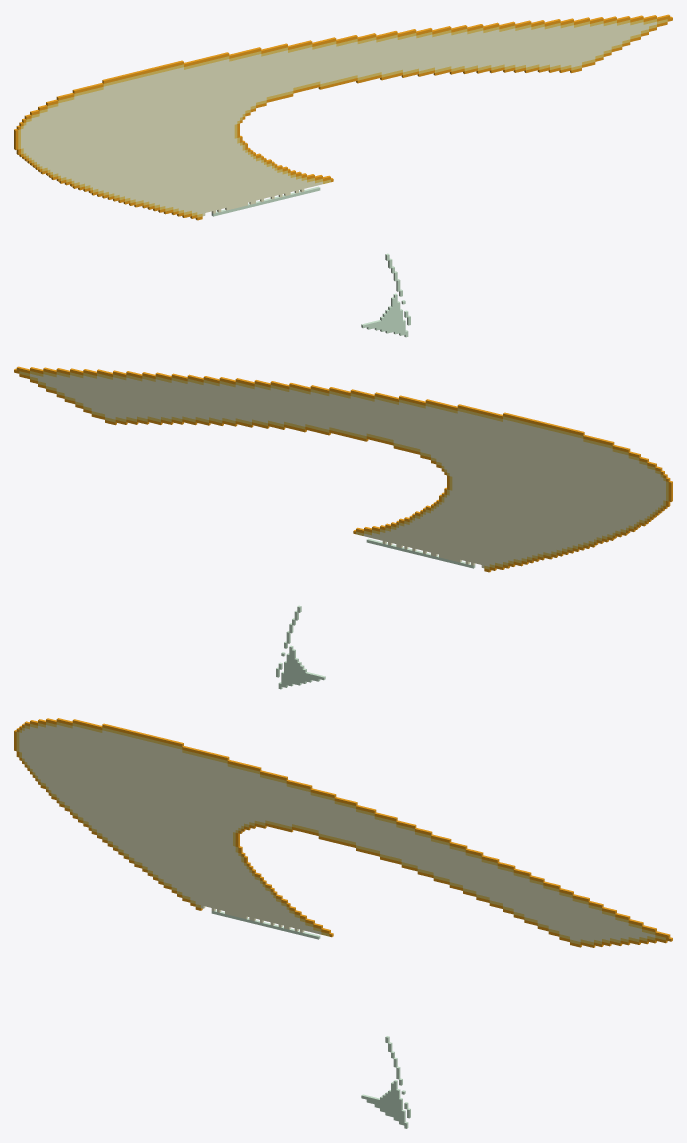
The model's file is Fight_023_2_05_fx.obj.
3 views of the same model, one above another, from view 1: azimuth 30°, elevation 25°; view 2: azimuth 150°, elevation 25°; view 3: azimuth 330°, elevation 25° (orthographic).
Bounding box in the file's own units: 24.6 × 11.8 × 0.1.
1 material, 1 textured.
